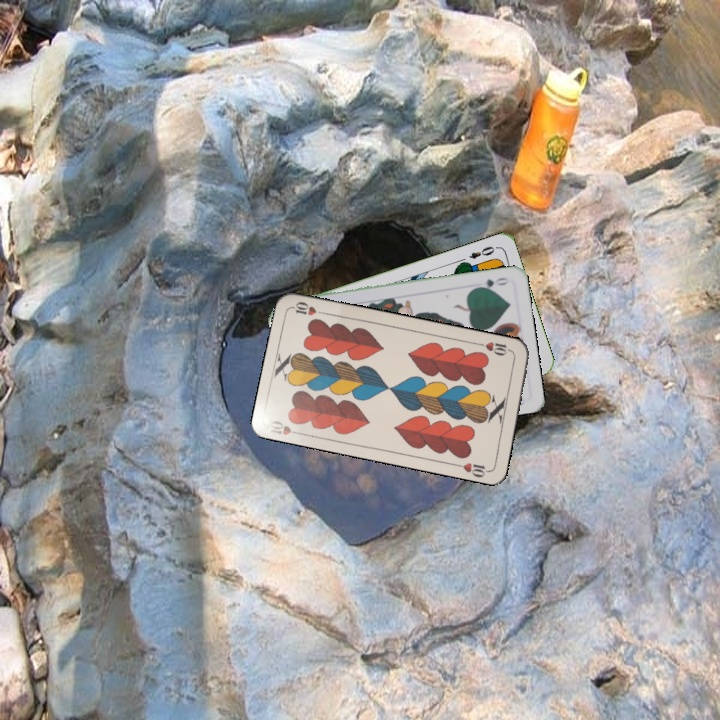EO: (465, 242, 497, 262)
GO: (472, 273, 512, 292)
H10: (266, 416, 305, 438), (475, 338, 515, 358)
